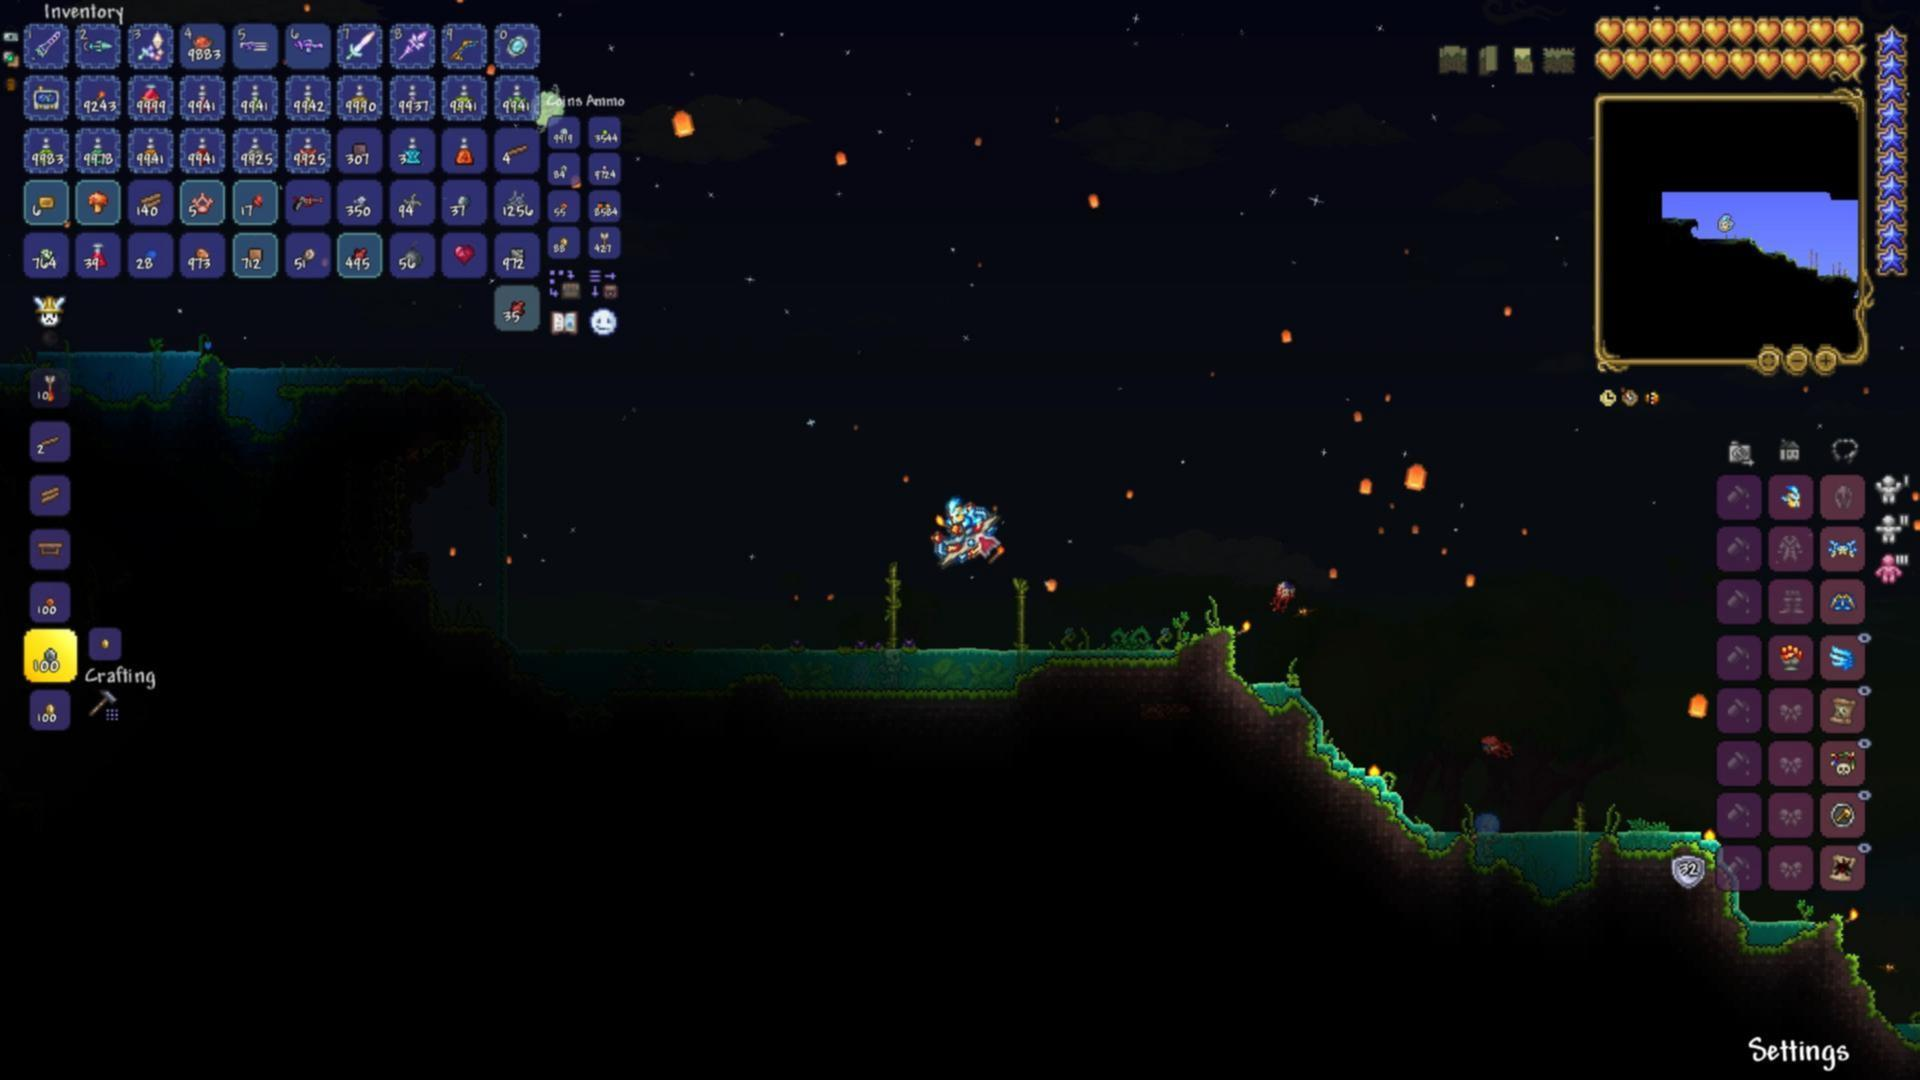eye: (1274, 571, 1303, 622), (1476, 725, 1513, 758)
mirror: (504, 30, 530, 59)
